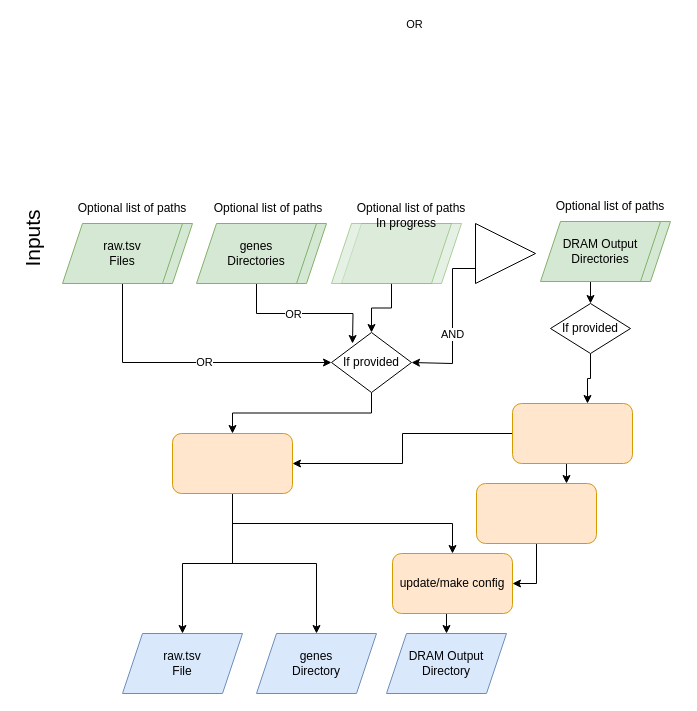
This 697x711 diagram has some shape labels left out. The box of each missing label's shape, as (x1, y1, x2, y2) in pixels:
adjectives.tsv Files: (330, 222, 452, 284)
Force: (474, 222, 536, 284)
Get config information, genes and annotation paths: (512, 402, 632, 464)
merge config: (476, 482, 596, 544)
merge files; Checking for conflicts: (172, 432, 292, 494)
